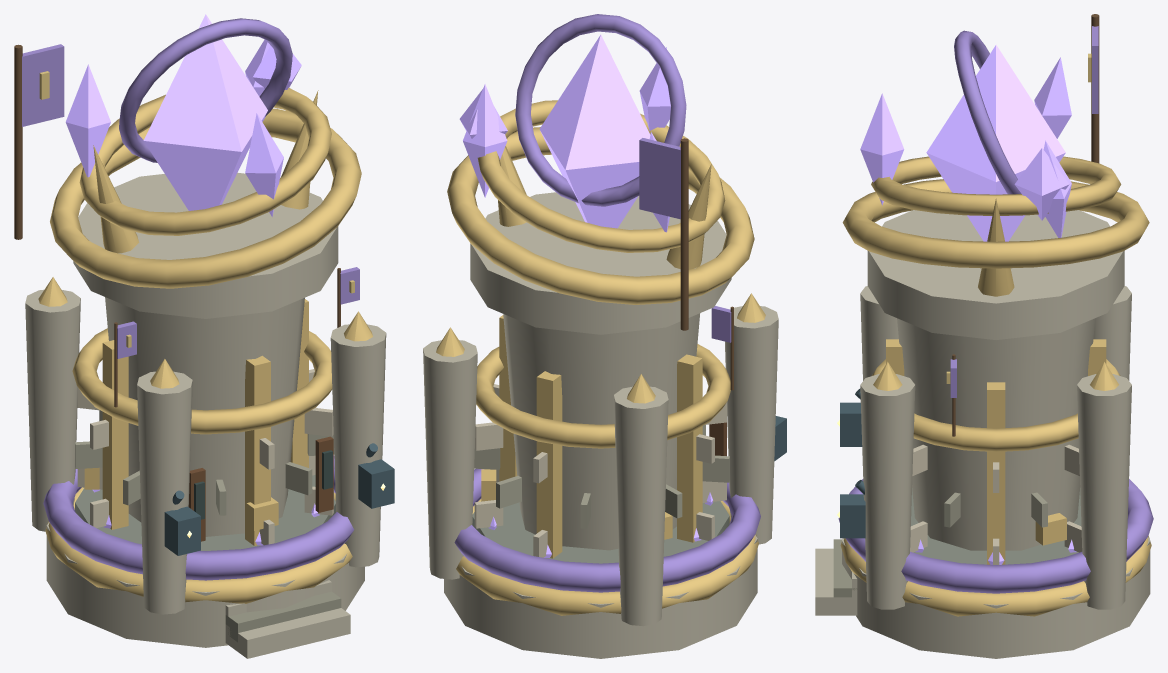
File: tower-arcane-3-0.glb
3 renders of one model, left to right at view 1: azimuth 30°, elevation 25°; view 2: azimuth 150°, elevation 25°; view 3: azimuth 270°, elevation 25°, orthographic. The views are drawn at different scales.
Visible parts, largest first — view 1: Foundation, Turret, arcane-L3-0; view 2: Foundation, Turret, arcane-L3-0; view 3: Foundation, Turret, arcane-L3-0.
Part boxes in pixels (x1,y1,x2,y2): Foundation: [14, 44, 394, 658]; Turret: [50, 14, 361, 318]; arcane-L3-0: [46, 475, 364, 647]; Foundation: [423, 138, 786, 626]; Turret: [447, 14, 754, 334]; arcane-L3-0: [444, 501, 757, 658]; Foundation: [815, 14, 1153, 616]; Turret: [842, 30, 1149, 339]; arcane-L3-0: [842, 488, 1150, 658].
Size of the model in its own units: 1.72 by 3.33 by 1.84.
